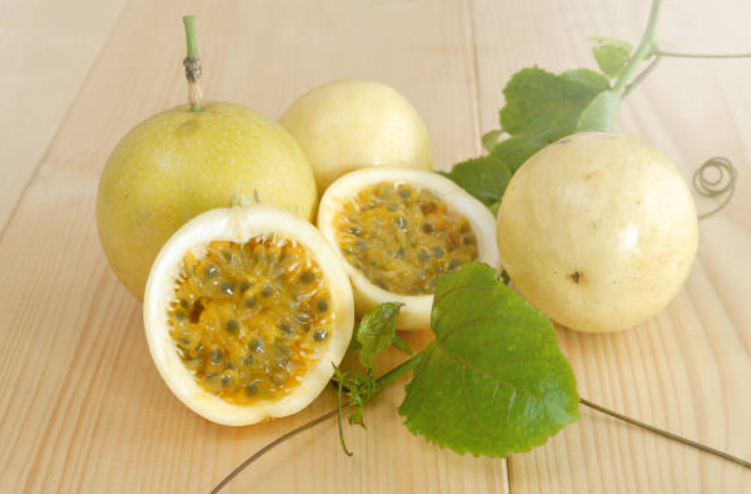maracuya: (484, 124, 709, 350)
